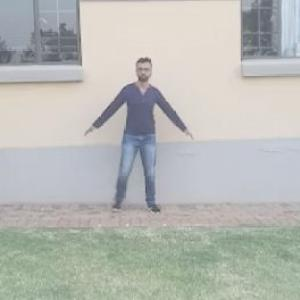land: (82, 60, 190, 225)
